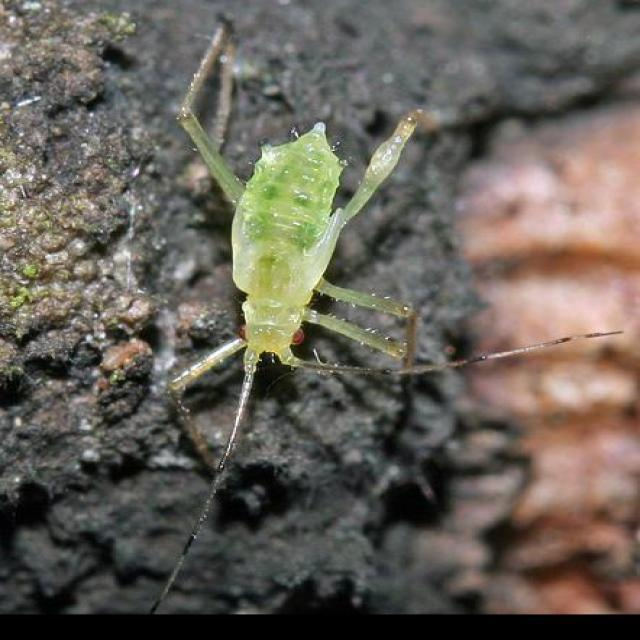aphid: (112, 31, 514, 562)
